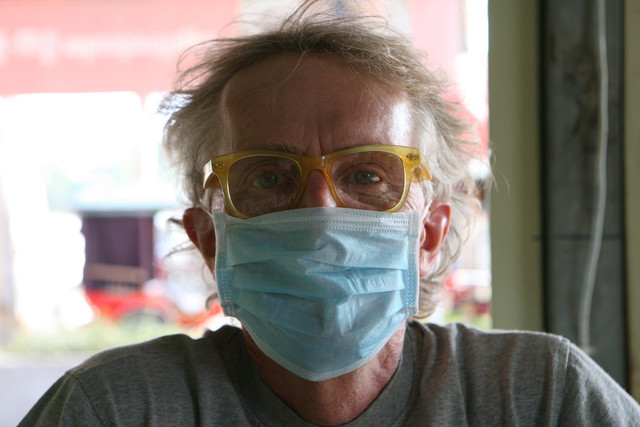mask: (217, 215, 423, 372)
